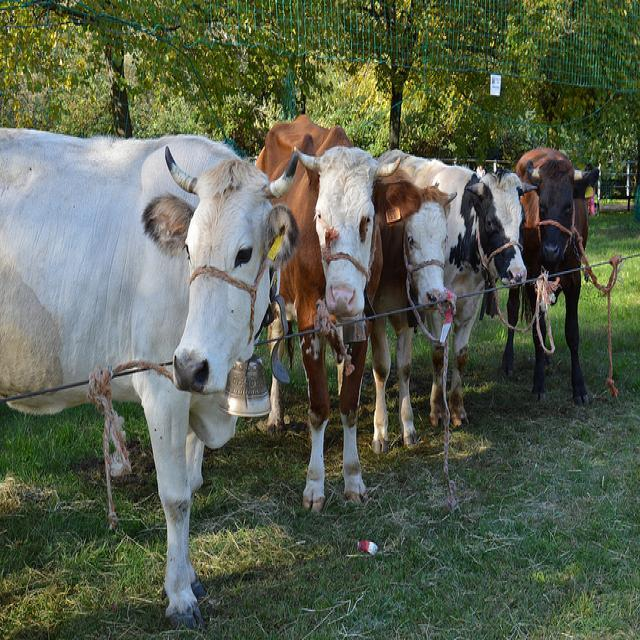cow: (0, 124, 296, 614), (250, 115, 418, 503), (389, 143, 532, 420), (362, 161, 456, 450), (503, 146, 600, 404)
